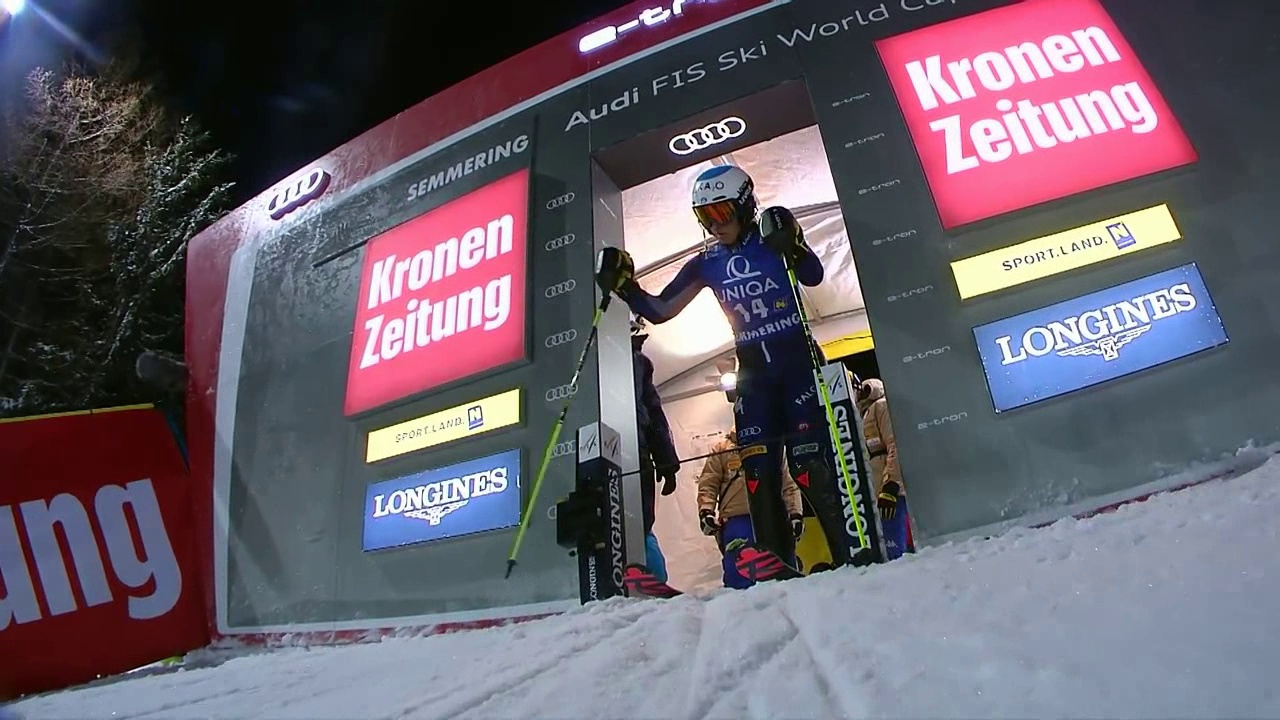audi: (658, 117, 756, 157), (266, 161, 331, 218), (541, 380, 585, 404), (543, 325, 583, 351), (543, 189, 580, 216), (543, 277, 581, 302), (895, 1, 957, 16), (543, 232, 581, 256)
kronenzeitung: (922, 14, 1141, 190), (3, 420, 156, 670), (373, 208, 502, 382)
longines: (988, 288, 1213, 389), (363, 465, 519, 541), (830, 394, 879, 564), (603, 465, 629, 601)
uniqa: (712, 252, 784, 312)
